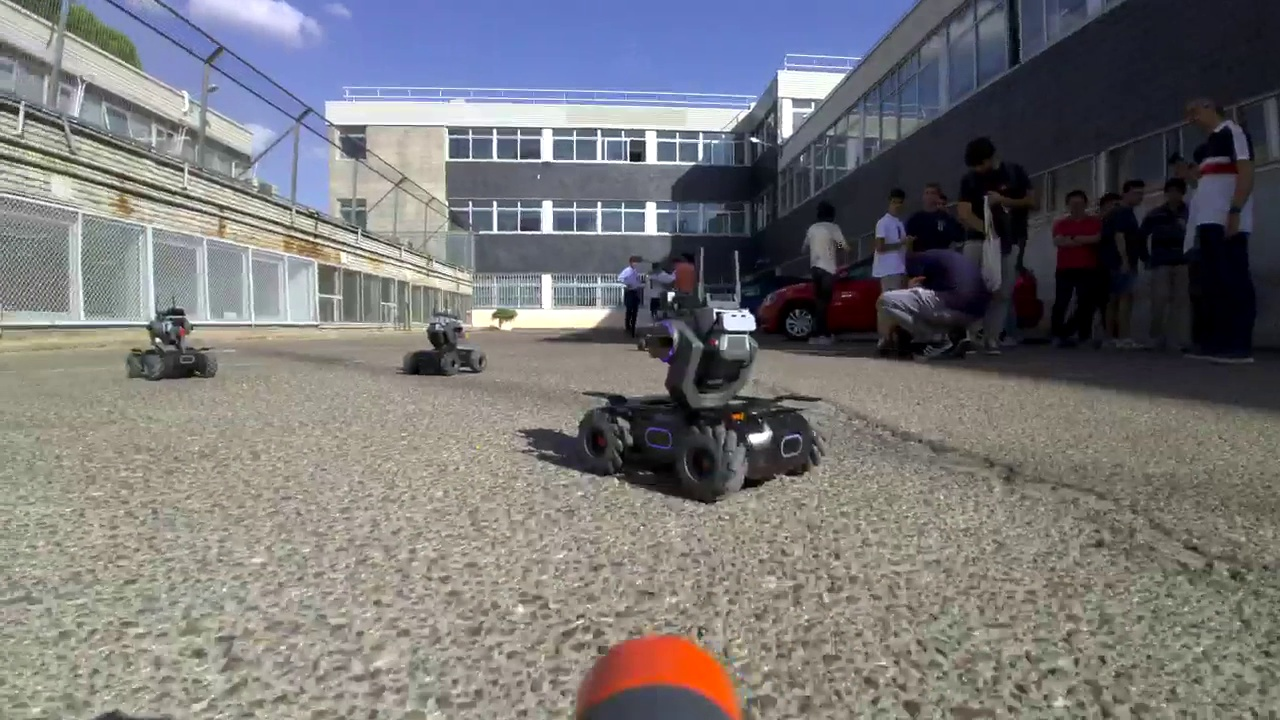robot: (581, 249, 829, 500), (120, 296, 219, 380), (405, 312, 489, 381)
